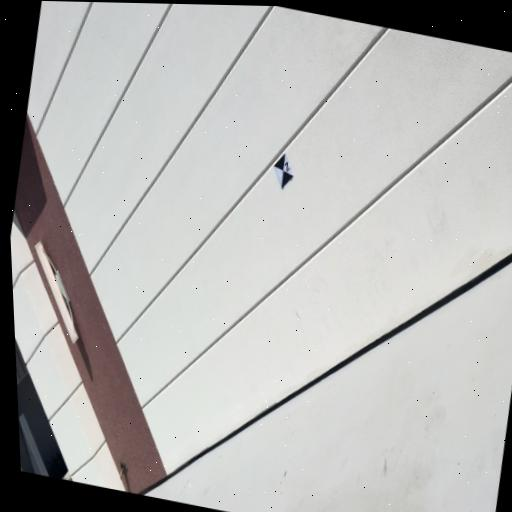target7: (274, 151, 294, 188)
